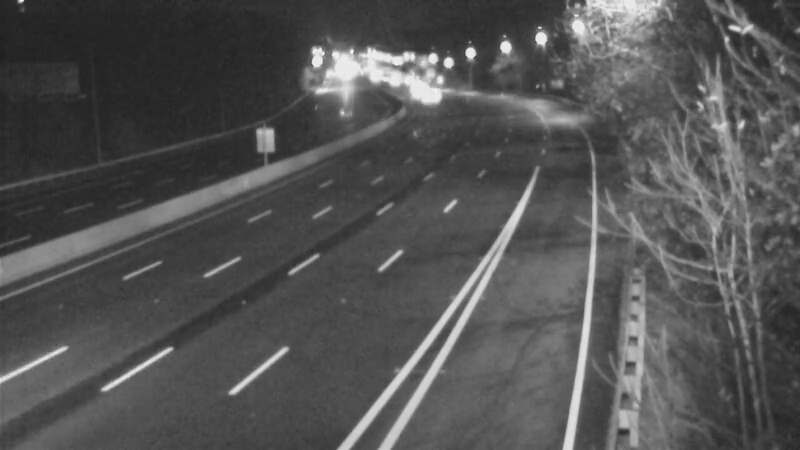vehicle: (384, 53, 434, 103), (391, 61, 441, 111), (399, 70, 449, 120)
